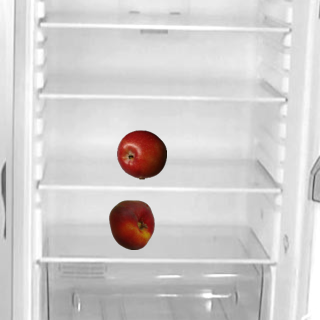Apple Braeburn: (116, 129, 166, 179)
Nectarine Flat: (106, 199, 156, 249)
